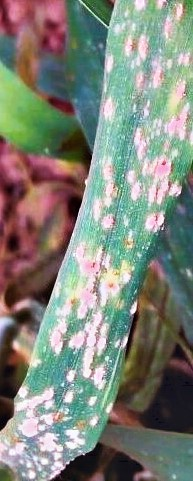Powdery Mildew: (43, 42, 193, 409)
